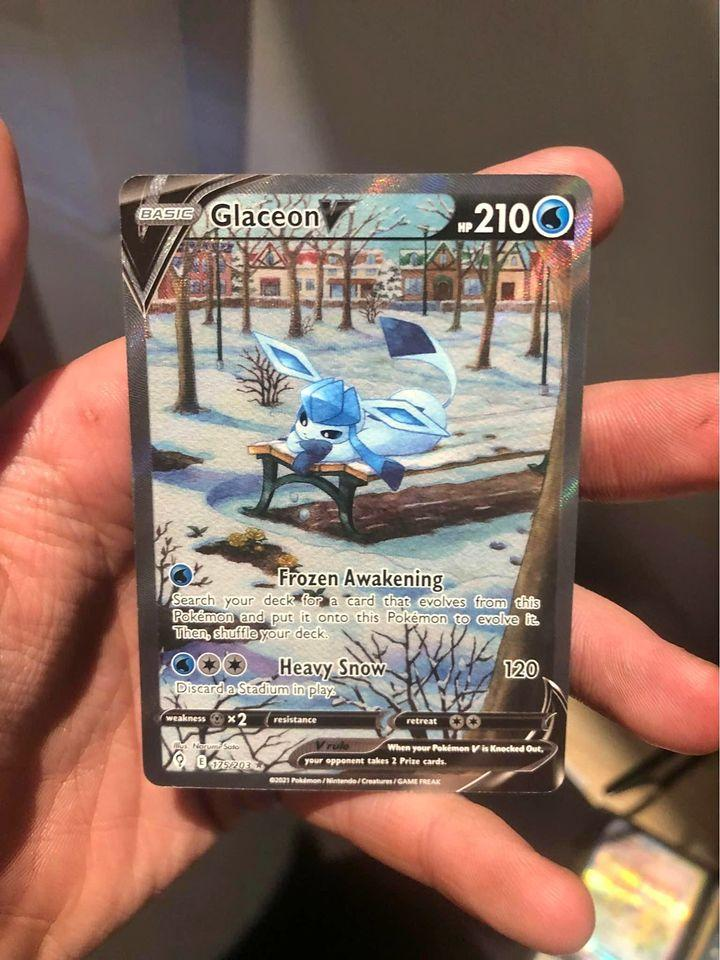card: (117, 172, 594, 795)
